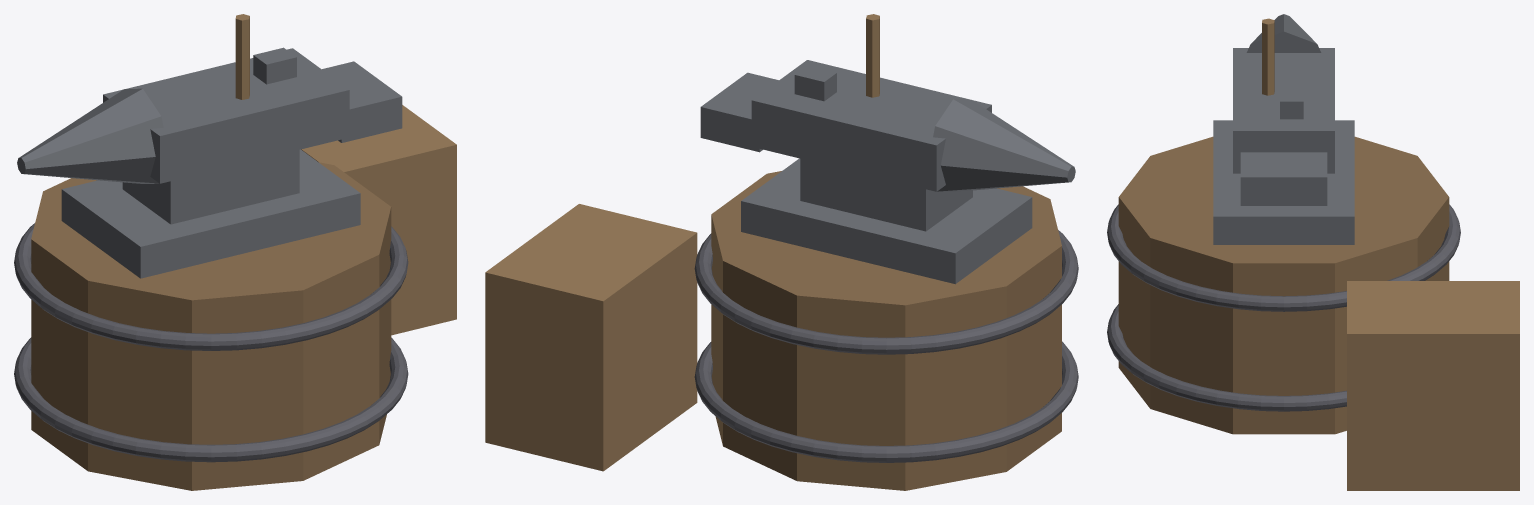
Rendered from anvil.glb.
3 views of the same model, side by side, from view 1: azimuth 30°, elevation 25°; view 2: azimuth 150°, elevation 25°; view 3: azimuth 270°, elevation 25° (orthographic). The views are drawn at different scales.
Visible parts, largest first — view 1: Cylinder, Cube.002, Cube, Cube.004, Torus.001, Torus, Cone, Cube.001, Cube.003, Cube.006, Cylinder.001; view 2: Cylinder, Cube.004, Cube.002, Cube, Torus.001, Torus, Cone, Cube.001, Cube.003, Cube.006, Cylinder.001; view 3: Cylinder, Cube.004, Cube, Cube.002, Torus.001, Cube.003, Torus, Cone, Cylinder.001, Cube.006.
Boxes of the visible parts, x1,y1,x2,y2 form: Cylinder: (31, 162, 391, 490); Cube.002: (103, 48, 349, 183); Cube: (61, 149, 360, 278); Cube.004: (301, 105, 456, 335); Torus.001: (14, 223, 408, 350); Torus: (14, 337, 408, 462); Cone: (17, 88, 163, 183); Cube.001: (122, 150, 299, 224); Cube.003: (322, 61, 402, 142); Cube.006: (253, 47, 296, 84); Cylinder.001: (235, 14, 249, 99); Cylinder: (711, 171, 1061, 490); Cube.004: (485, 204, 697, 471); Cube.002: (751, 60, 991, 191); Cube: (741, 158, 1032, 284); Torus.001: (694, 230, 1078, 354); Torus: (694, 341, 1078, 462); Cone: (933, 99, 1075, 191); Cube.001: (800, 158, 972, 231); Cube.003: (700, 72, 778, 152); Cube.006: (794, 65, 836, 101); Cylinder.001: (866, 14, 879, 97); Cylinder: (1118, 136, 1449, 434); Cube.004: (1347, 281, 1519, 490); Cube: (1213, 120, 1354, 244); Cube.002: (1233, 48, 1334, 173); Torus.001: (1107, 204, 1460, 311); Cube.003: (1240, 152, 1327, 205); Torus: (1107, 304, 1346, 411); Cone: (1246, 14, 1321, 52); Cylinder.001: (1262, 18, 1274, 95); Cube.006: (1280, 88, 1303, 119).
Bounding box in the file's own units: 1.24 × 1 × 1.05.
